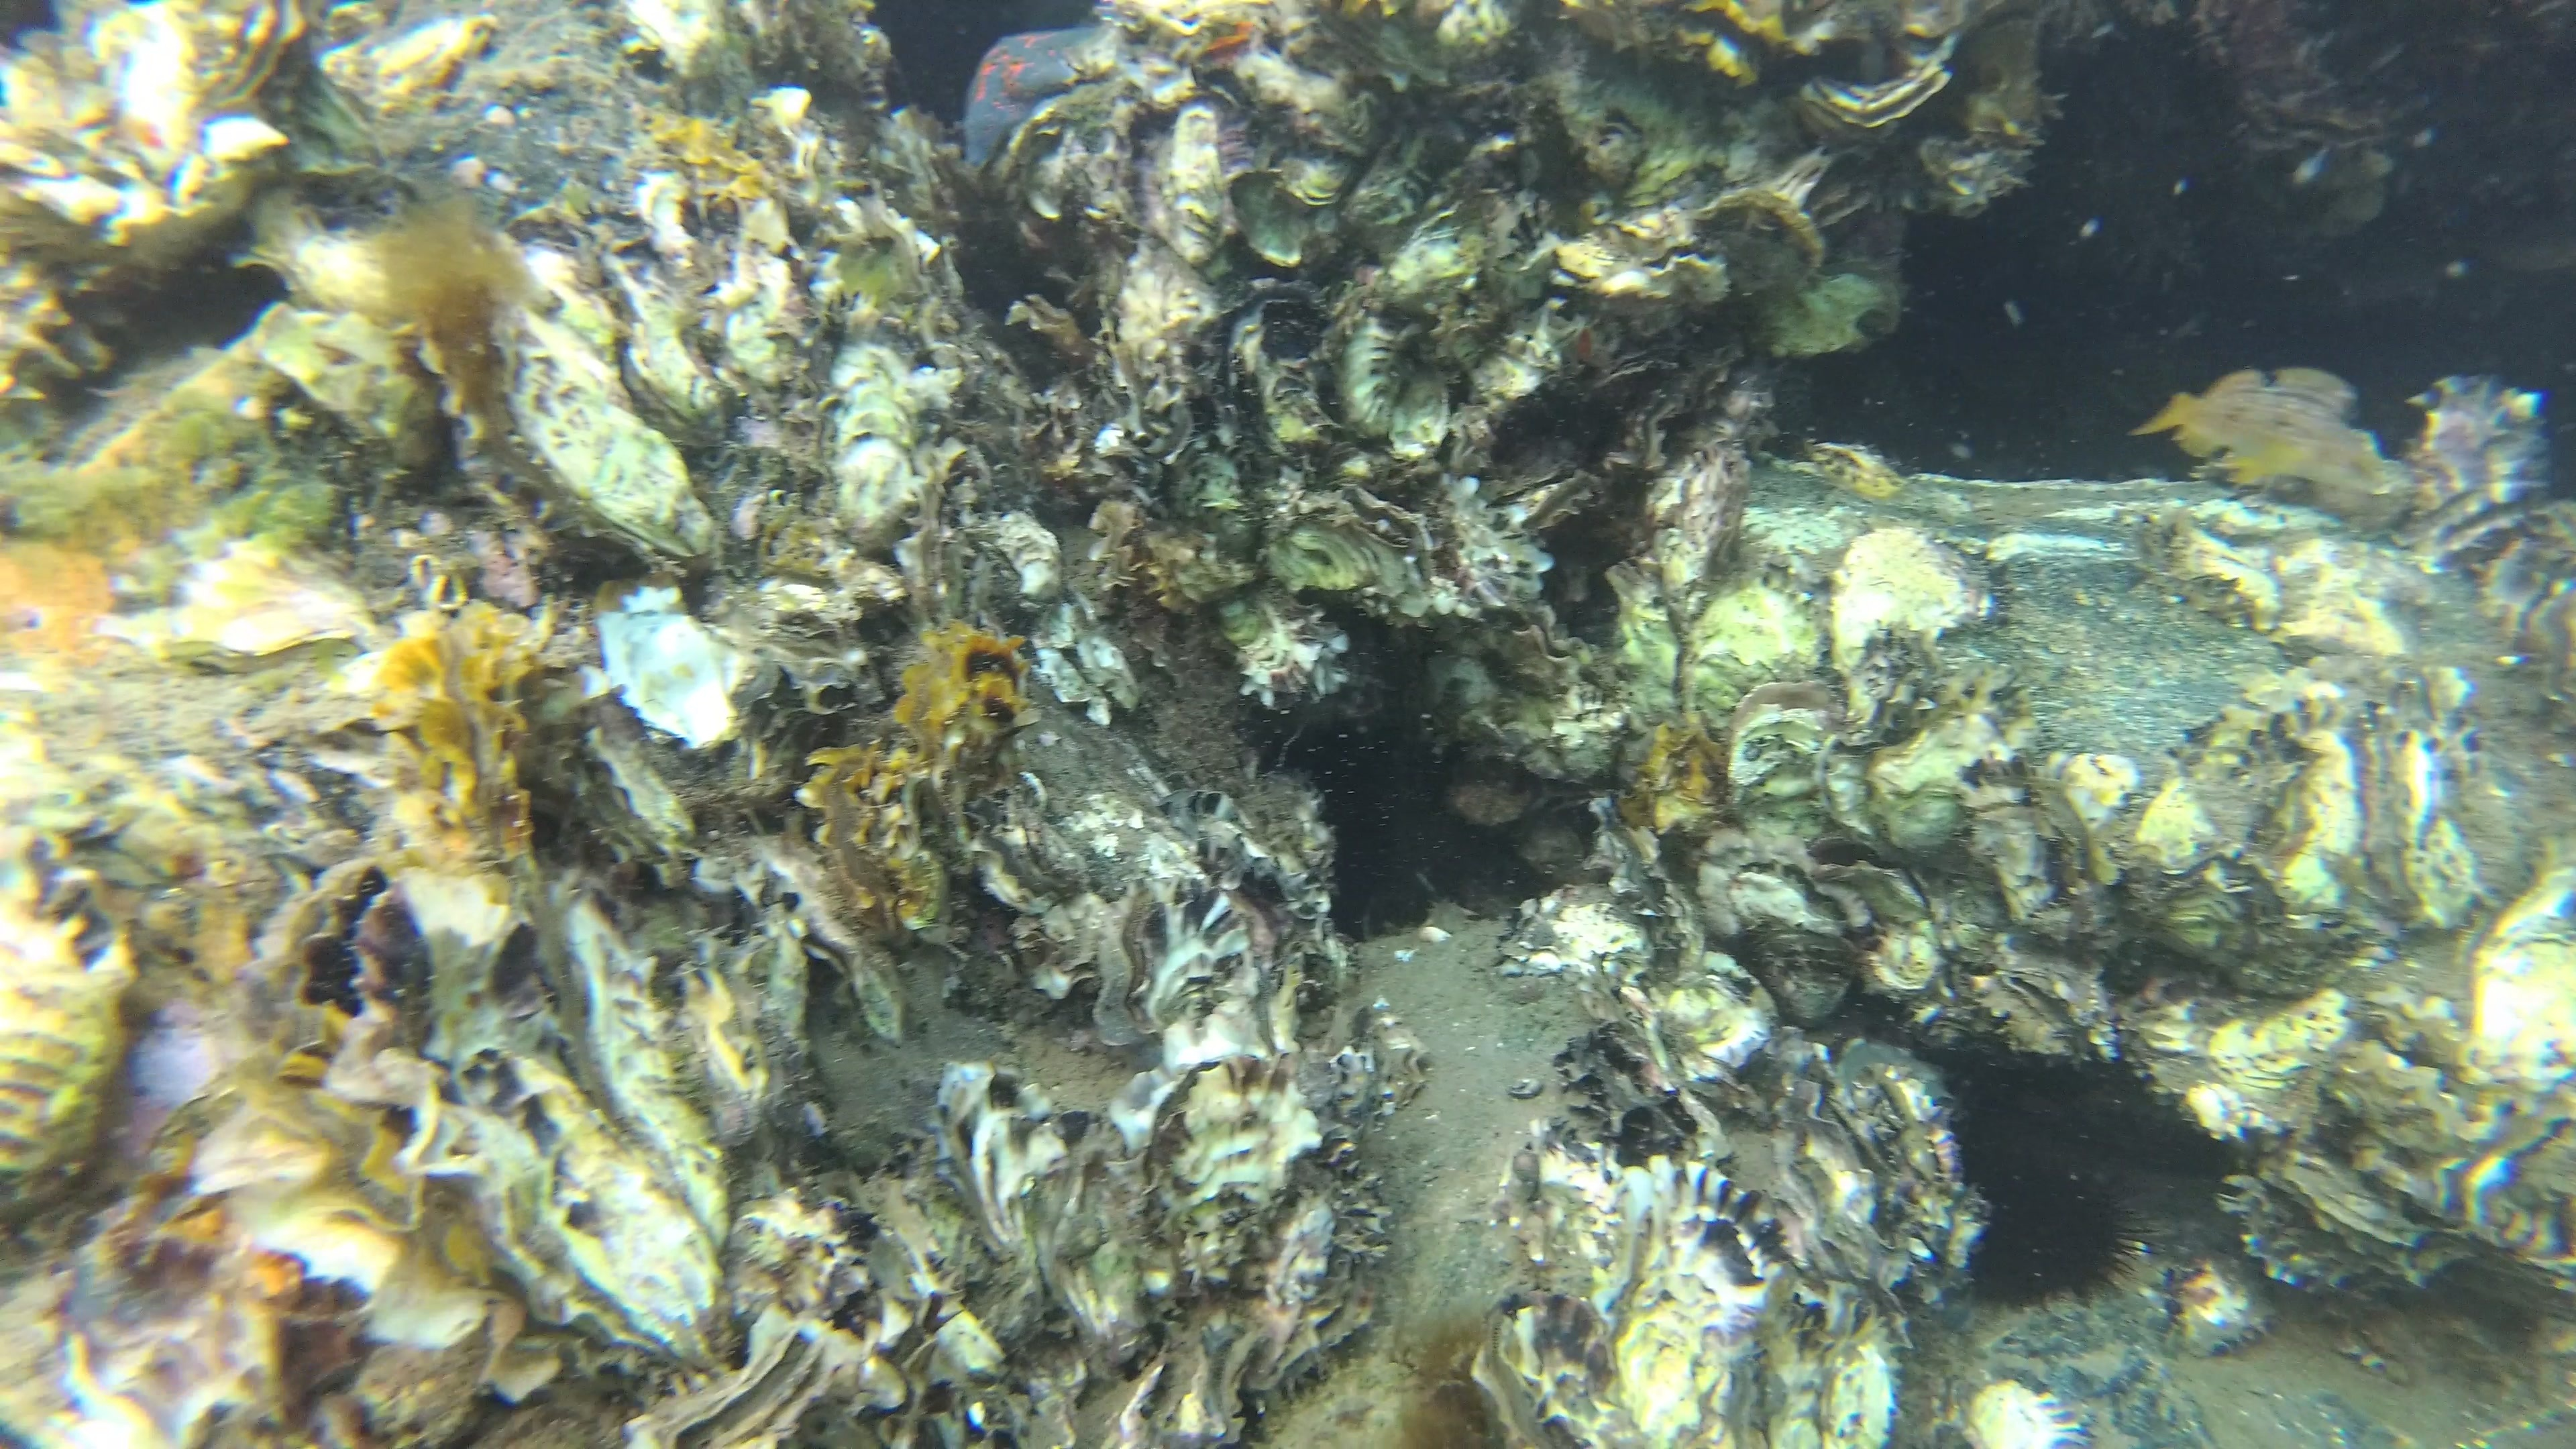echinus: (1936, 1076, 2167, 1322)
starfish: (955, 19, 1109, 180)
